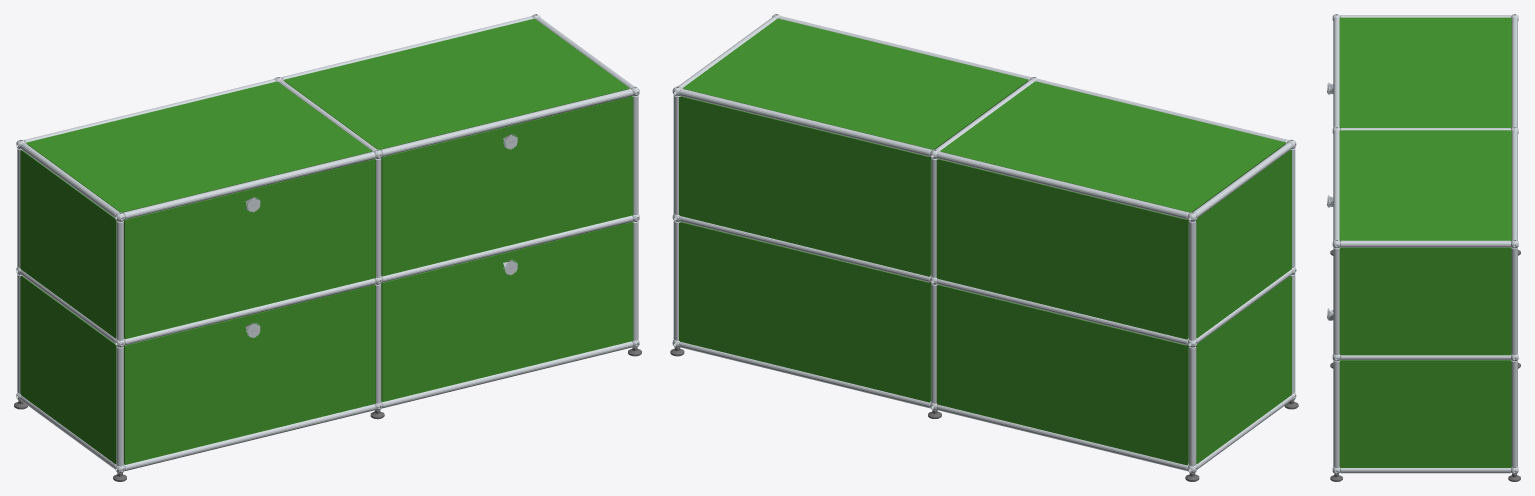
File: usm-haller-green-v31.glb
3 views of the same model, side by side, from view 1: azimuth 30°, elevation 25°; view 2: azimuth 150°, elevation 25°; view 3: azimuth 270°, elevation 25° (orthographic). The views are drawn at different scales.
Parts seen in each view (by area): view 1: tuerel62, tuerel16, tuerel85, tuerel39, blech5121, blech5119, blech3126, blech3117, rohr75146, rohr75166, rohr75159, rohr75155 (+11 smaller); view 2: blech3144, blech3153, blech3164, blech3175, blech5119, blech5121, blech3117, blech3126, rohr75145, rohr75165, rohr75180, rohr75181 (+11 smaller); view 3: blech5121, blech5119, blech3120, blech3129, rohr50136, rohr50141, rohr50142, rohr75165, rohr75166, rohr75145, rohr75146, rohr35169 (+5 smaller).
Part boxes in pixels (box(x1,y1,x2,y2)): tuerel62: box(381, 222, 633, 401); tuerel16: box(381, 96, 633, 276); tuerel85: box(124, 285, 375, 464); tuerel39: box(124, 159, 375, 339); blech5121: box(26, 81, 371, 212); blech5119: box(284, 19, 629, 149); blech3126: box(20, 150, 116, 338); blech3117: box(20, 276, 116, 463); rohr75146: box(123, 151, 375, 219); rohr75166: box(380, 89, 632, 156); rohr75159: box(123, 404, 375, 471); rohr75155: box(123, 278, 375, 345); blech3144: box(936, 159, 1188, 339); blech3153: box(936, 285, 1188, 465); blech3164: box(679, 96, 931, 276); blech3175: box(679, 222, 931, 402); blech5119: box(683, 18, 1028, 149); blech5121: box(940, 81, 1285, 212); blech3117: box(1196, 276, 1291, 463); blech3126: box(1196, 150, 1291, 338); rohr75145: box(936, 151, 1189, 219); rohr75165: box(679, 88, 931, 156); rohr75180: box(679, 342, 931, 408); rohr75181: box(679, 216, 931, 282); blech5121: box(1339, 17, 1511, 128); blech5119: box(1339, 130, 1511, 240); blech3120: box(1339, 247, 1511, 355); blech3129: box(1339, 360, 1511, 467); rohr50136: box(1340, 240, 1510, 247); rohr50141: box(1340, 355, 1510, 360); rohr50142: box(1340, 468, 1510, 473); rohr75165: box(1511, 130, 1517, 240); rohr75166: box(1333, 130, 1339, 240); rohr75145: box(1511, 17, 1517, 127); rohr75146: box(1333, 17, 1339, 127); rohr35169: box(1333, 247, 1339, 354).
Size of the model in its own units: 1.54 by 0.7415 by 0.5448.
